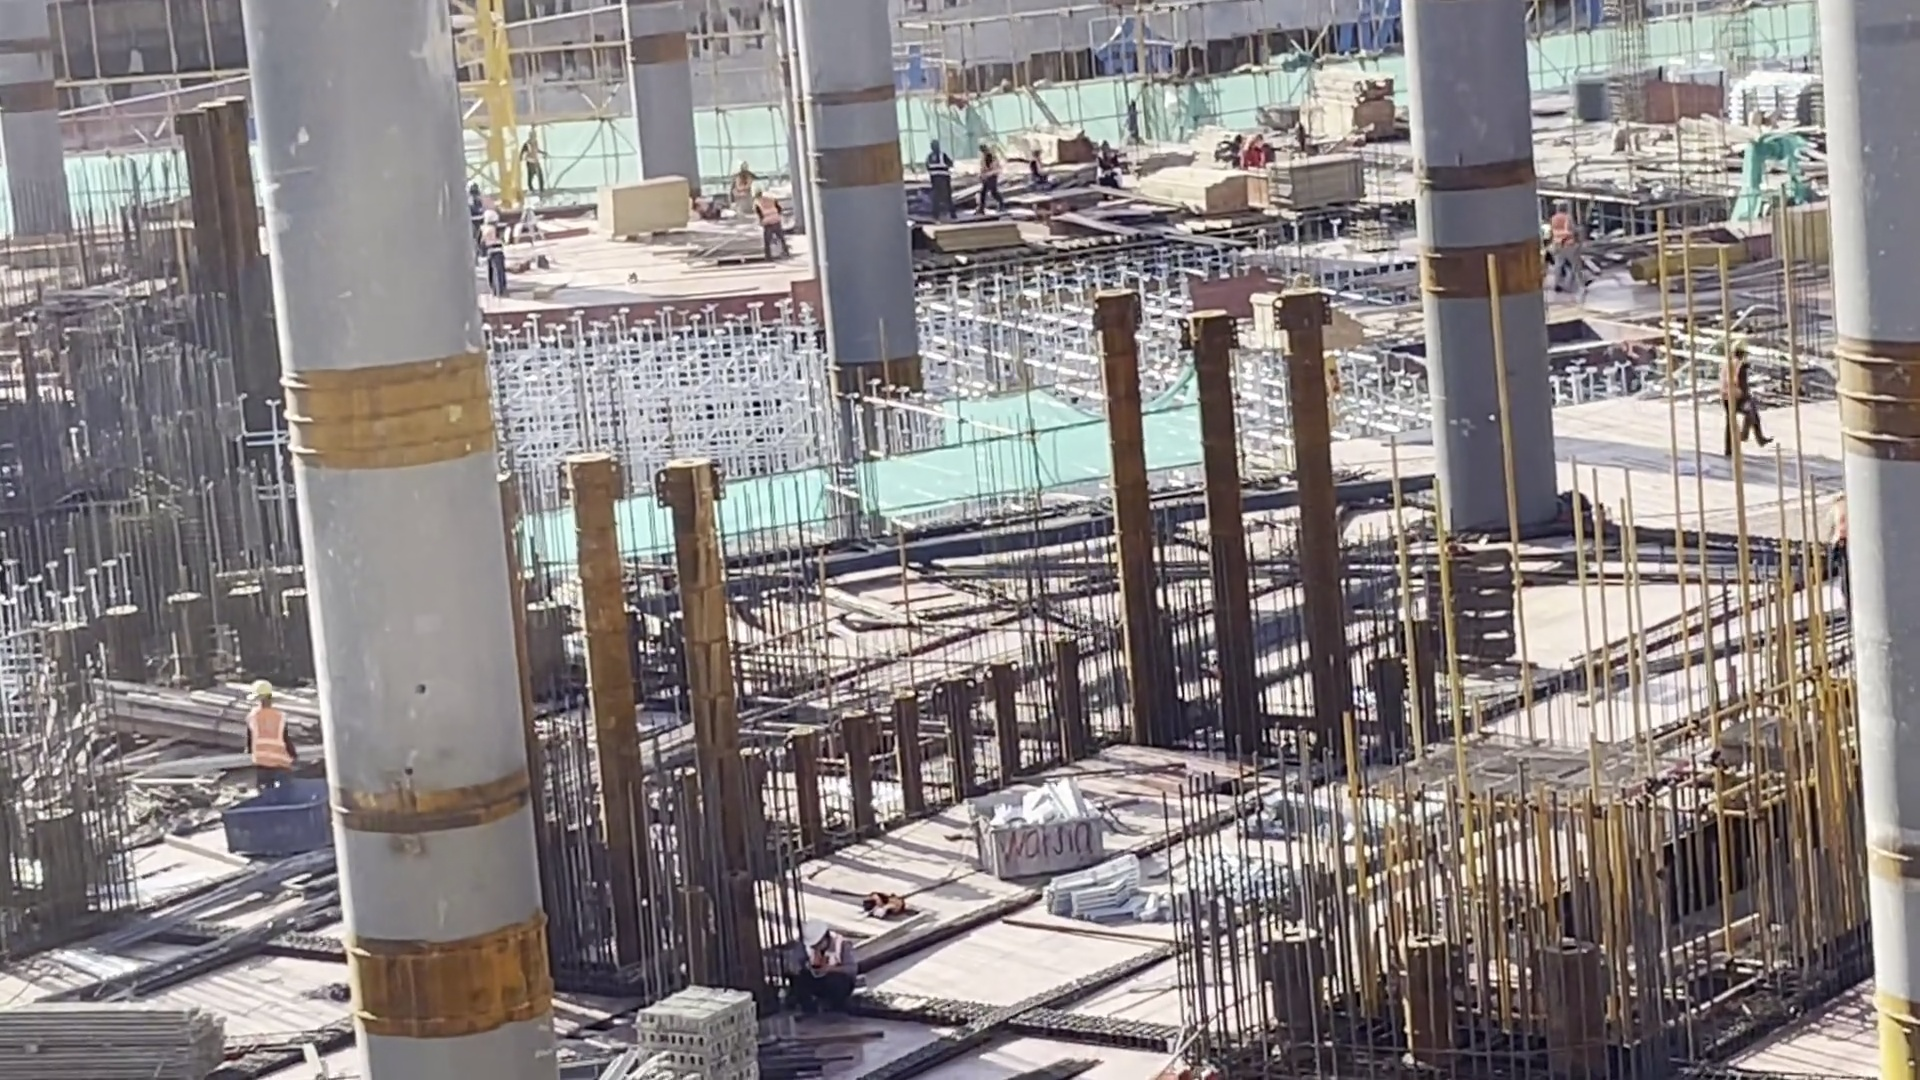helmet: (790, 918, 834, 953), (249, 675, 276, 702), (1723, 330, 1748, 356)
person: (759, 913, 878, 1013), (1711, 322, 1781, 460), (225, 685, 304, 789), (1538, 183, 1589, 311), (1202, 133, 1287, 187), (747, 182, 784, 268), (970, 135, 1004, 217), (922, 134, 951, 216), (477, 201, 504, 290), (518, 130, 541, 197)
vest: (242, 709, 289, 772), (1715, 356, 1755, 408), (755, 192, 776, 220), (481, 220, 496, 250)
